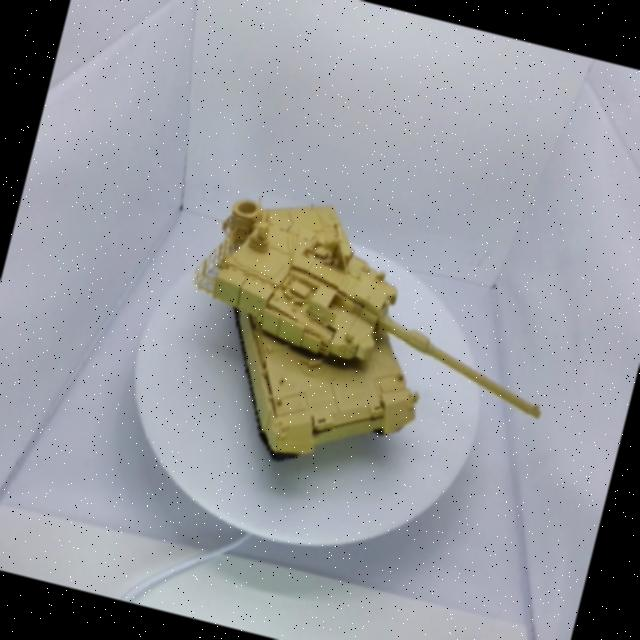korea tank: (137, 147, 593, 545)
